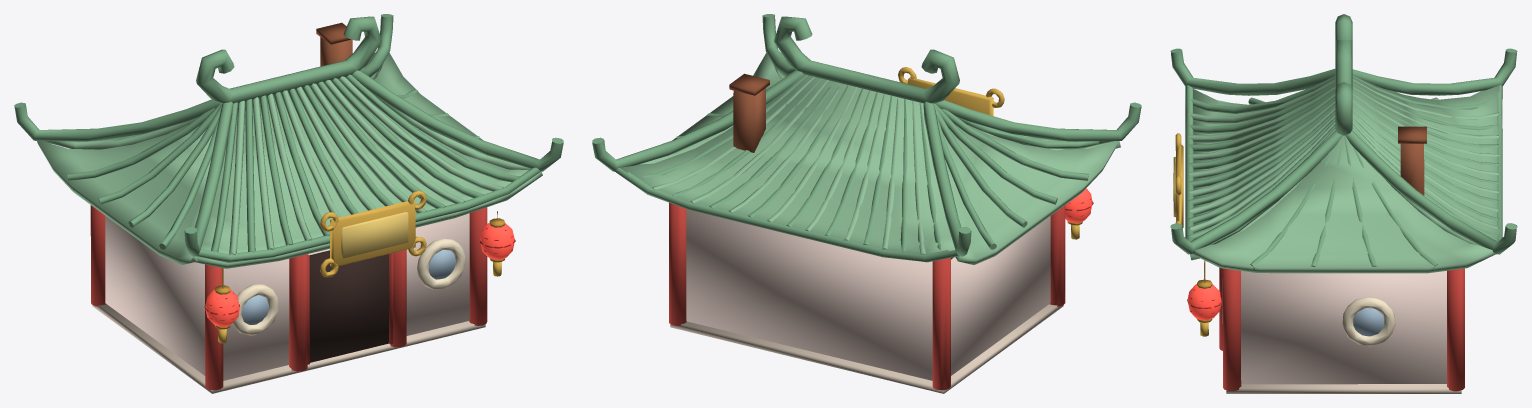
File: chinese.glb
The picture shows the model from 3 angles, left to right: view 1: azimuth 30°, elevation 25°; view 2: azimuth 150°, elevation 25°; view 3: azimuth 270°, elevation 25°; orthographic projection.
Parts seen in each view (by area): view 1: chinese; view 2: chinese; view 3: chinese.
Boxes of the visible parts, x1=… form: chinese: x1=14, y1=14, x2=563, y2=393; chinese: x1=592, y1=14, x2=1141, y2=393; chinese: x1=1170, y1=14, x2=1517, y2=393.
Size of the model in its own units: 3.44 by 2.46 by 2.79.
